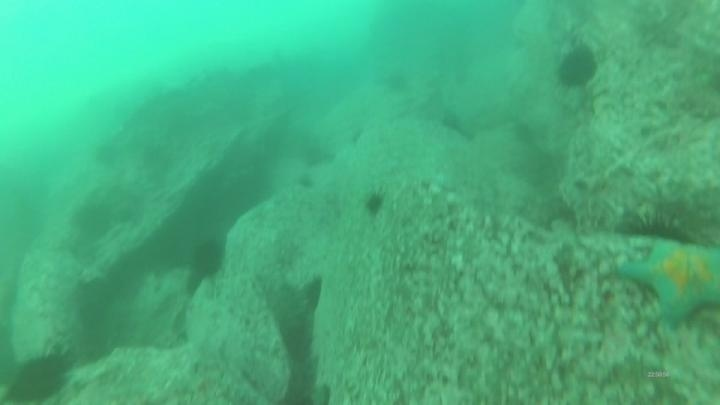echinus: (4, 348, 74, 404), (617, 206, 703, 247), (554, 43, 600, 91), (71, 200, 116, 240), (188, 237, 227, 281), (92, 140, 123, 169), (361, 189, 387, 218), (297, 139, 323, 168), (384, 68, 410, 97), (436, 106, 462, 135)
starfish: (618, 239, 720, 330)
